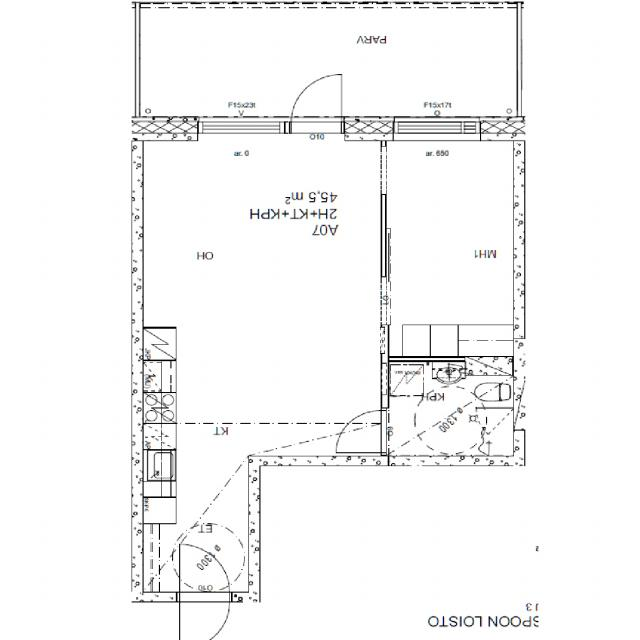door: (292, 69, 342, 140), (179, 544, 230, 602), (179, 591, 230, 640), (335, 410, 389, 453)
